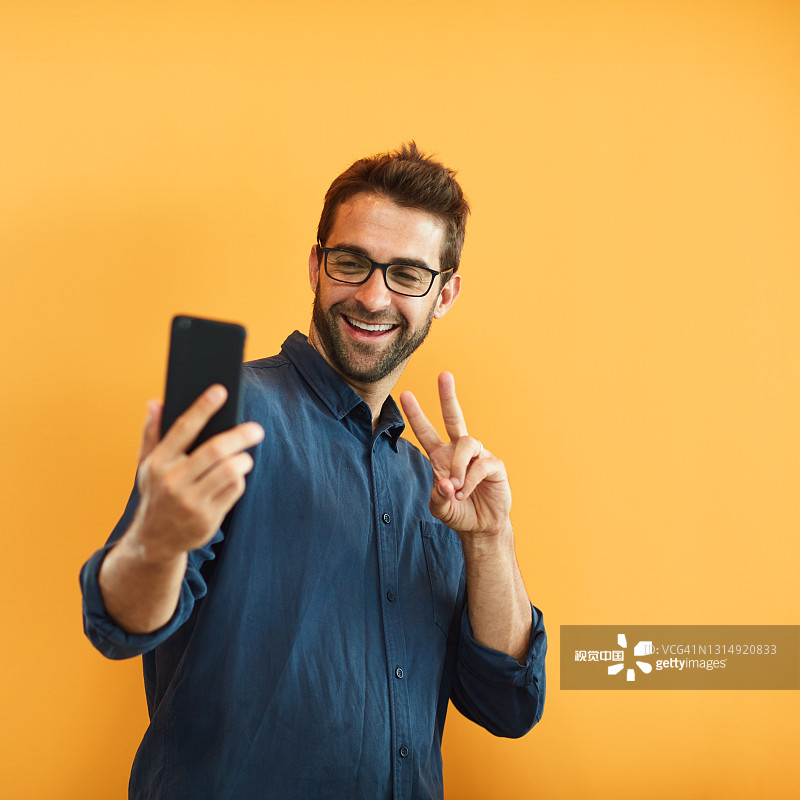no-phone: (394, 361, 524, 568)
taking photos: (113, 338, 282, 574)
